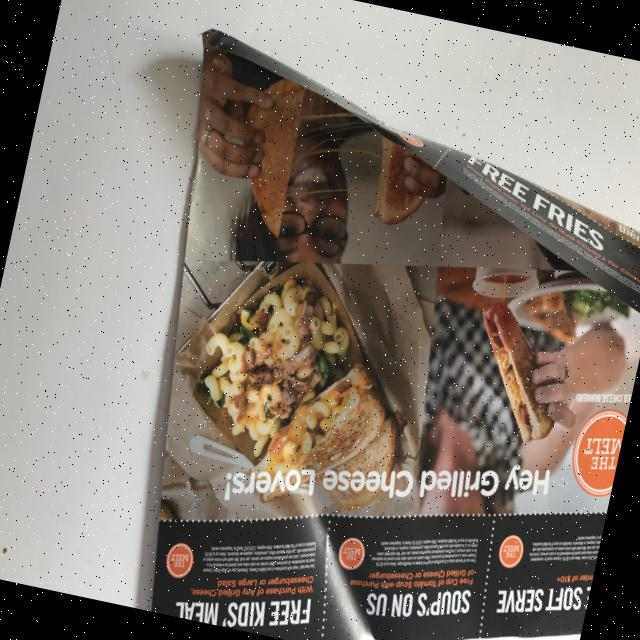paper: (79, 25, 640, 640)
